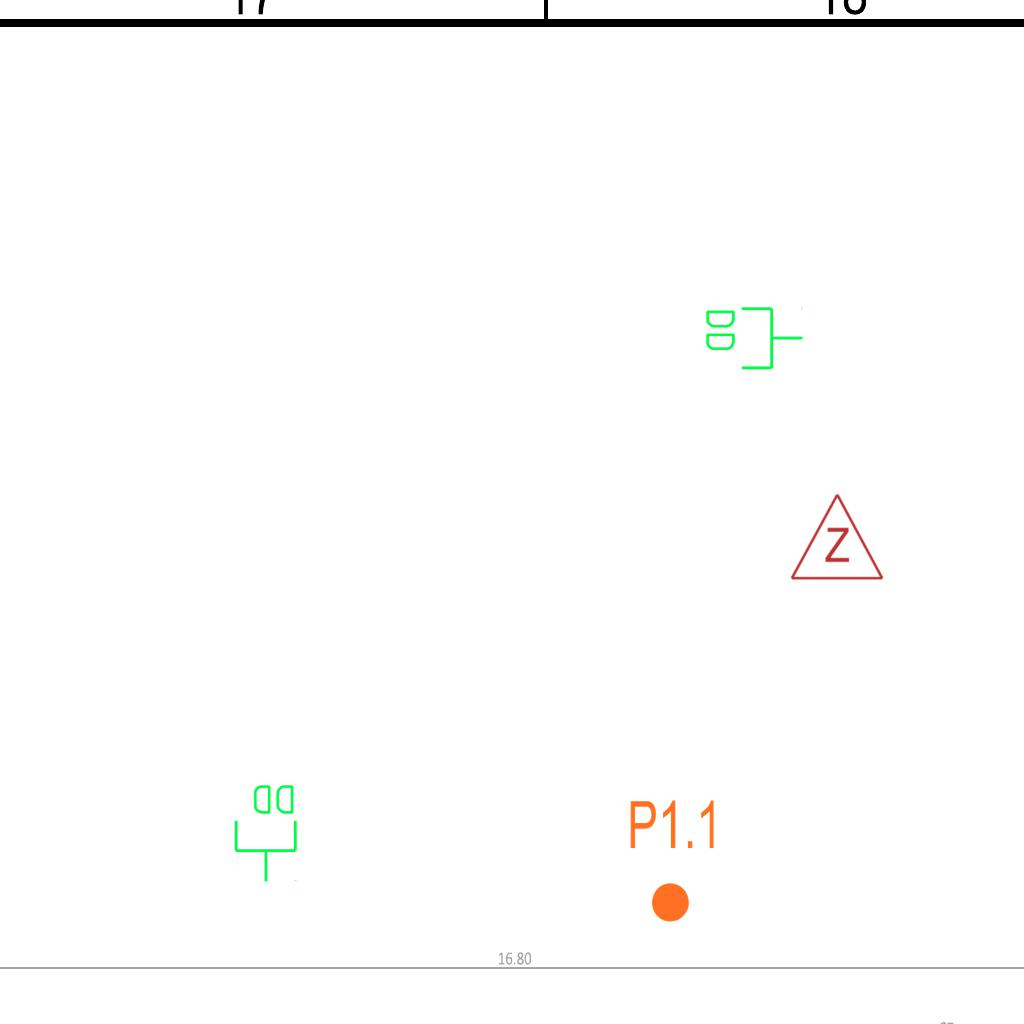Datenanschluss_zweifach: (702, 303, 805, 372), (232, 781, 301, 884)
Downlight_LED_Einbauleuchten_Flur: (627, 797, 720, 925)
Zimmersignalleuchte: (787, 487, 885, 587)
